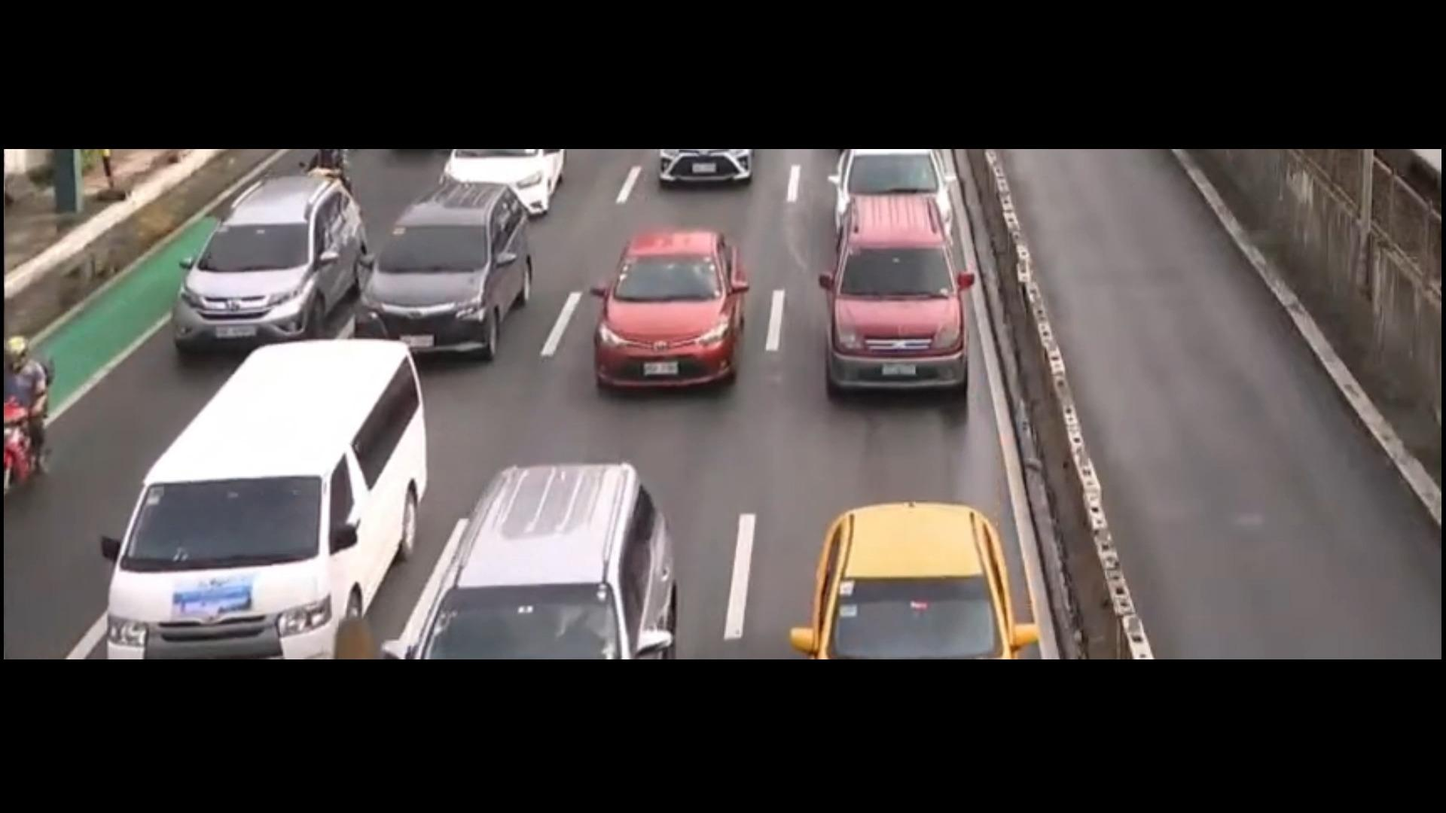Motorcycle: (0, 327, 54, 489)
SUV: (413, 463, 674, 660), (170, 178, 367, 352), (806, 195, 972, 399), (354, 184, 529, 357)
Sedan: (803, 506, 1034, 663), (595, 238, 744, 391)
Van: (101, 335, 425, 659)
